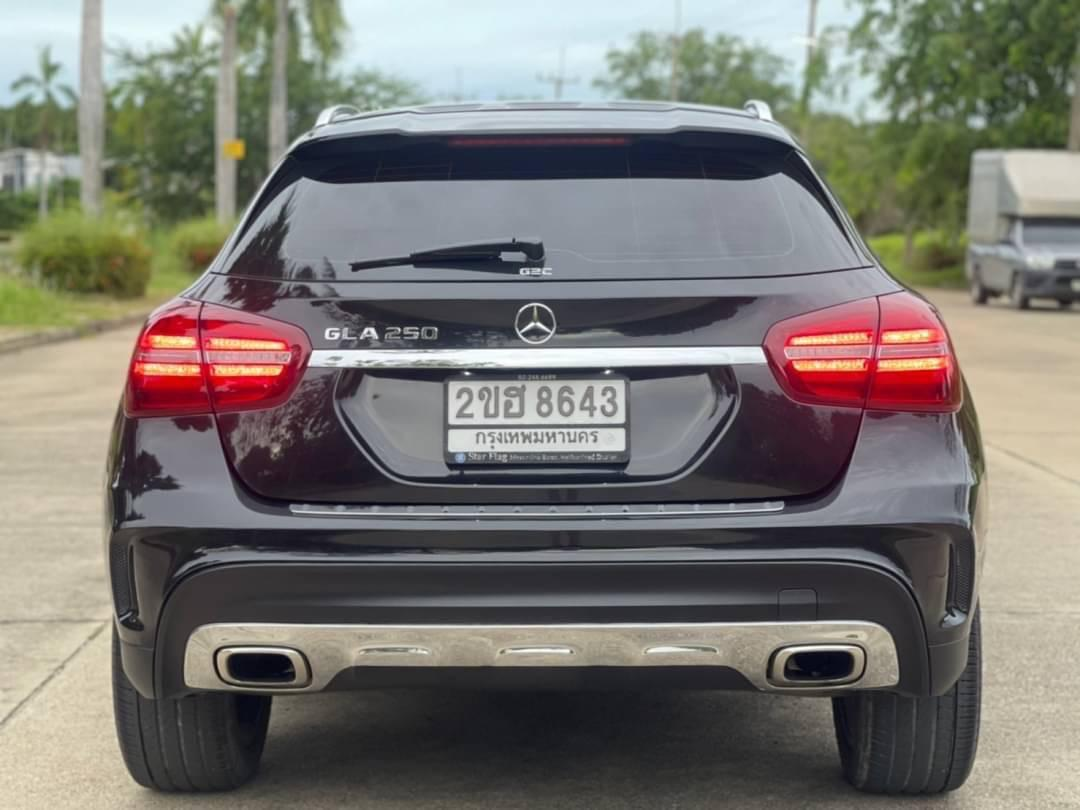license-plate: (444, 364, 633, 466)
